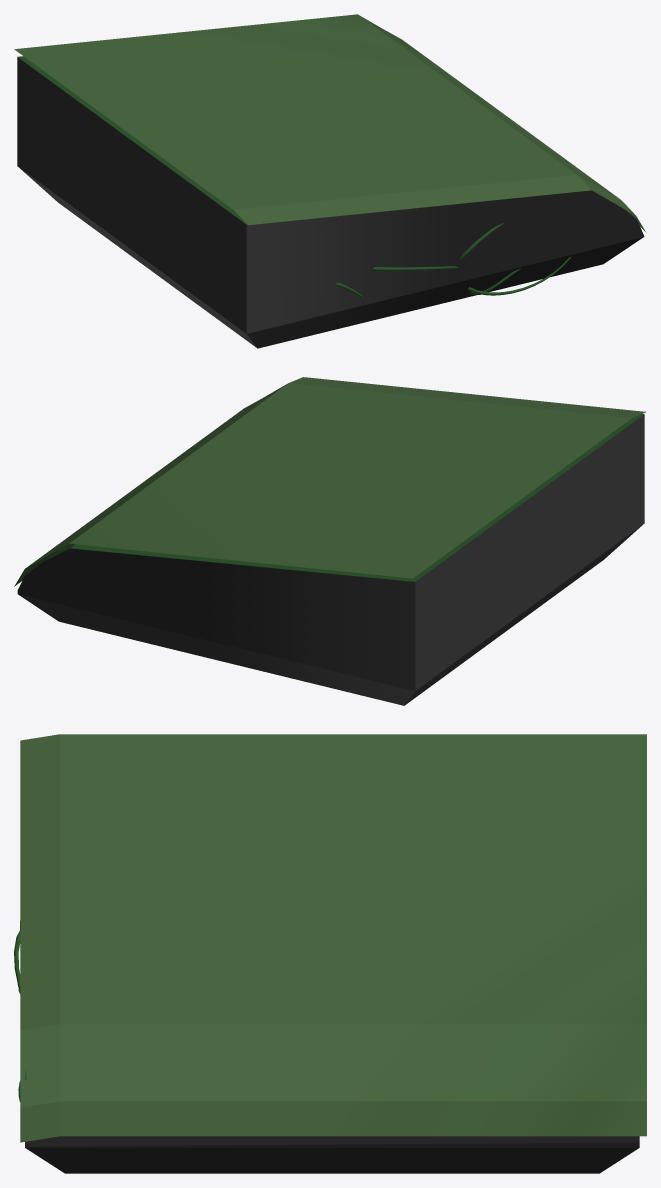
File: rightslope_platform.fbx
3 renders of one model, top to bottom at view 1: azimuth 30°, elevation 25°; view 2: azimuth 150°, elevation 25°; view 3: azimuth 270°, elevation 25°, orthographic. The views are drawn at different scales.
Parts seen in each view (by area): view 1: Cube.012; view 2: Cube.012; view 3: Cube.012.
Boxes of the visible parts, x1,y1,x2,y2 form: Cube.012: [14, 14, 645, 348]; Cube.012: [14, 377, 645, 705]; Cube.012: [14, 734, 646, 1173].
Bounding box in the file's own units: 1055 × 371 × 1083.
